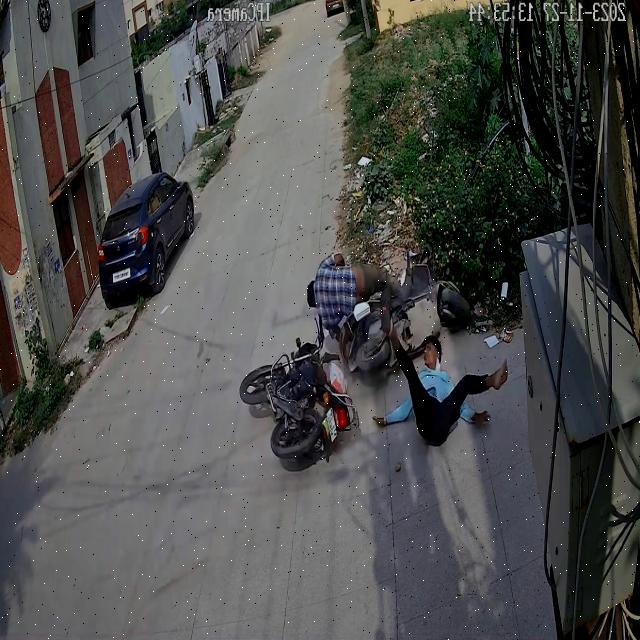accident: (237, 236, 513, 487)
